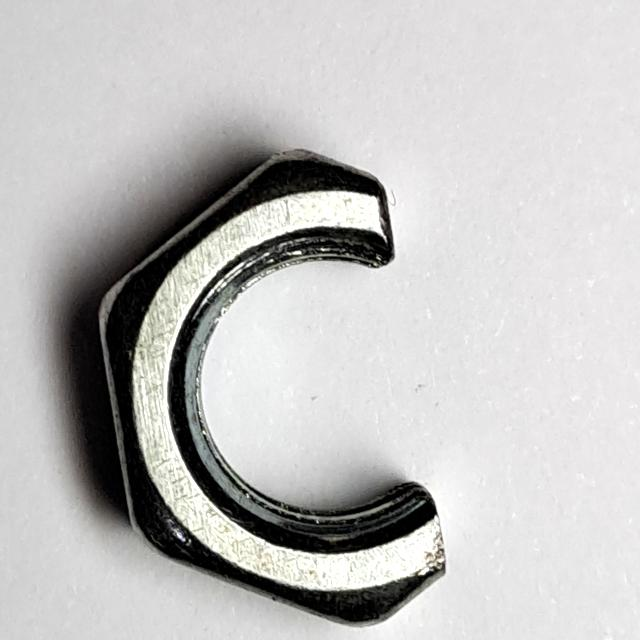Fracture: (82, 140, 478, 640)
